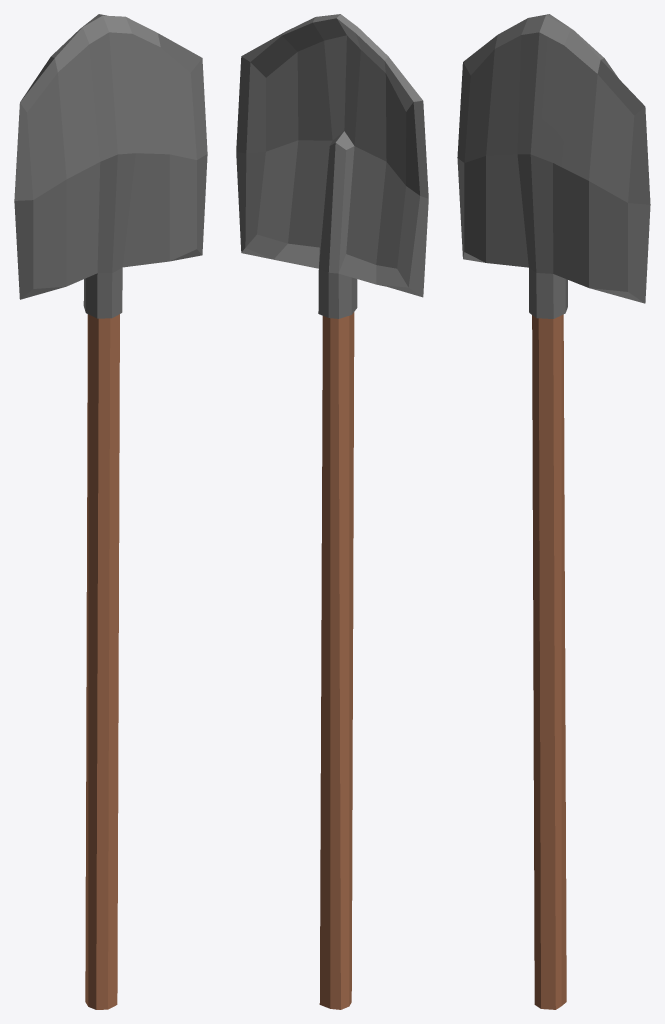
File: shovel.fbx
3 views of the same model, side by side, from view 1: azimuth 30°, elevation 25°; view 2: azimuth 150°, elevation 25°; view 3: azimuth 330°, elevation 25° (orthographic).
Visible parts, largest first — view 1: Shovel; view 2: Shovel; view 3: Shovel.
Part boxes in pixels (<box>): Shovel: <box>14,14,207,1009</box>; Shovel: <box>236,14,428,1009</box>; Shovel: <box>457,14,650,1009</box>.
Bounding box in the file's own units: 83.01 × 407 × 20.52.
